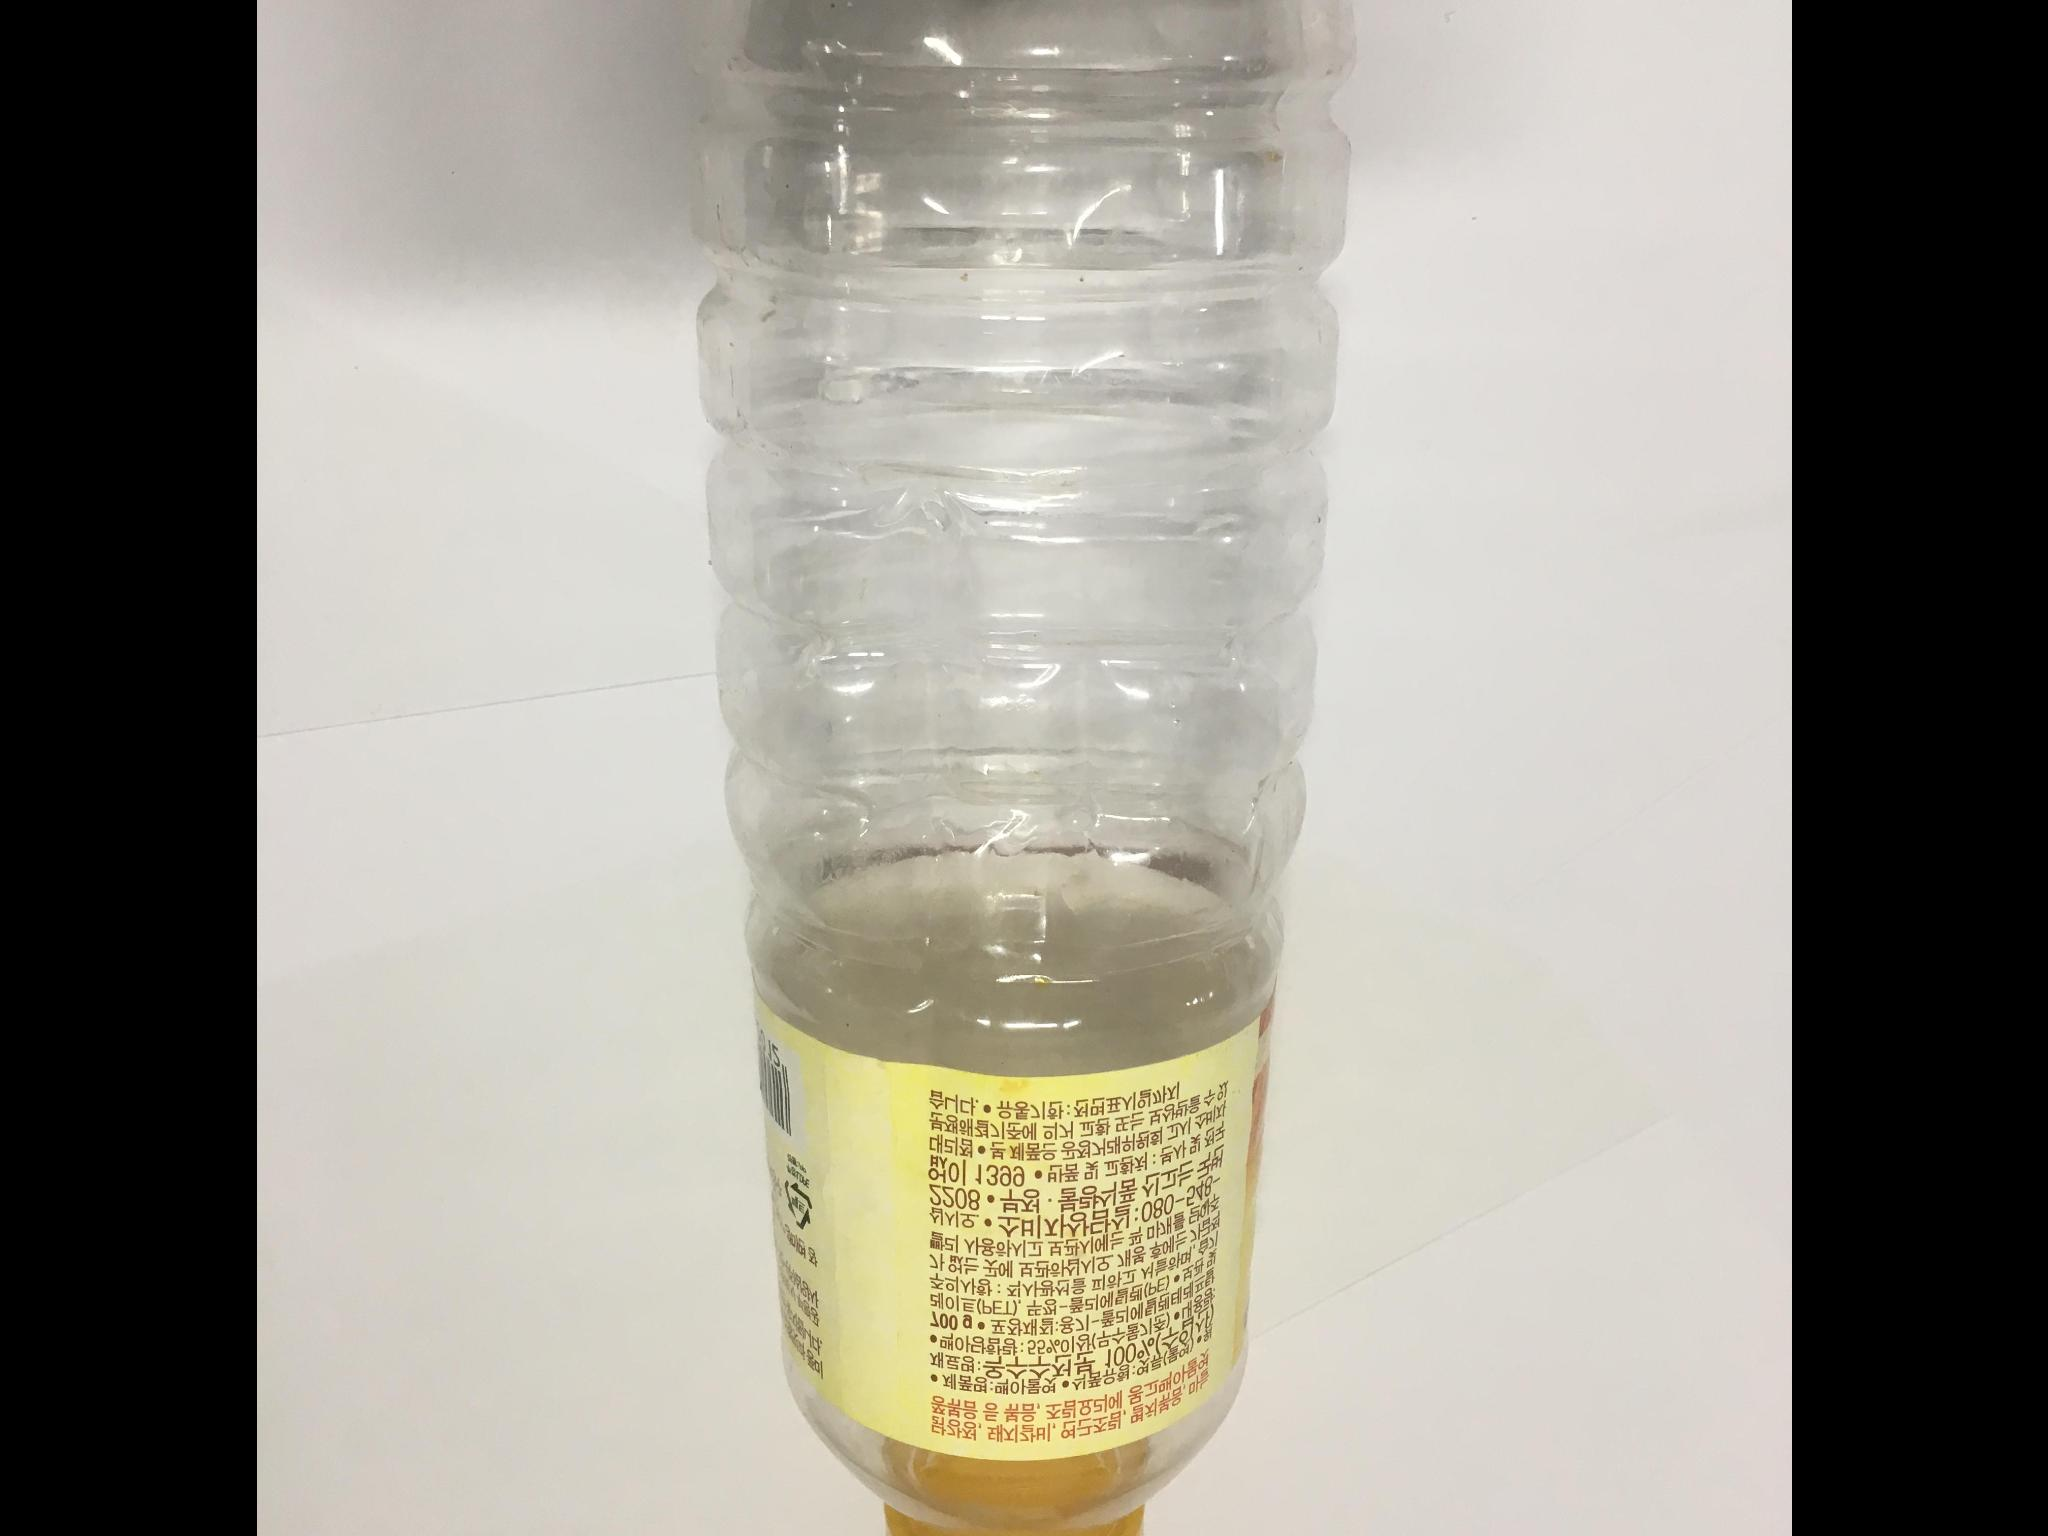bottle: (681, 0, 1371, 1536)
